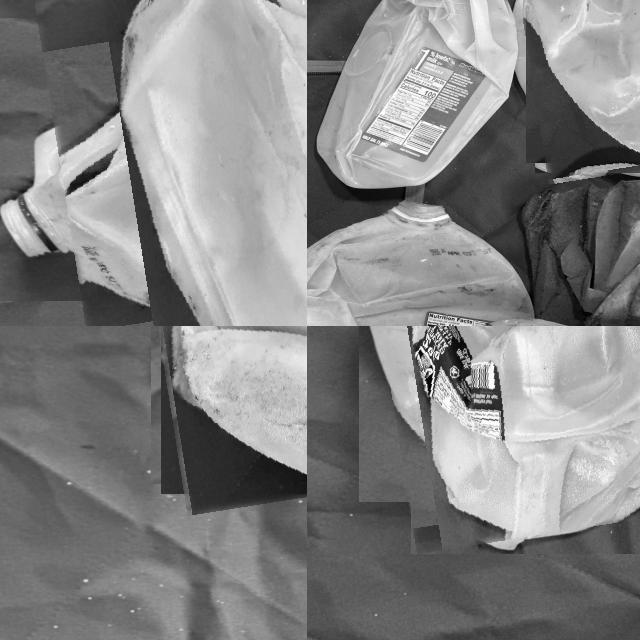milk-jug: (46, 0, 307, 326), (371, 326, 640, 541), (318, 0, 512, 181), (141, 326, 307, 502), (307, 201, 534, 326), (521, 0, 640, 176), (532, 178, 640, 326)
